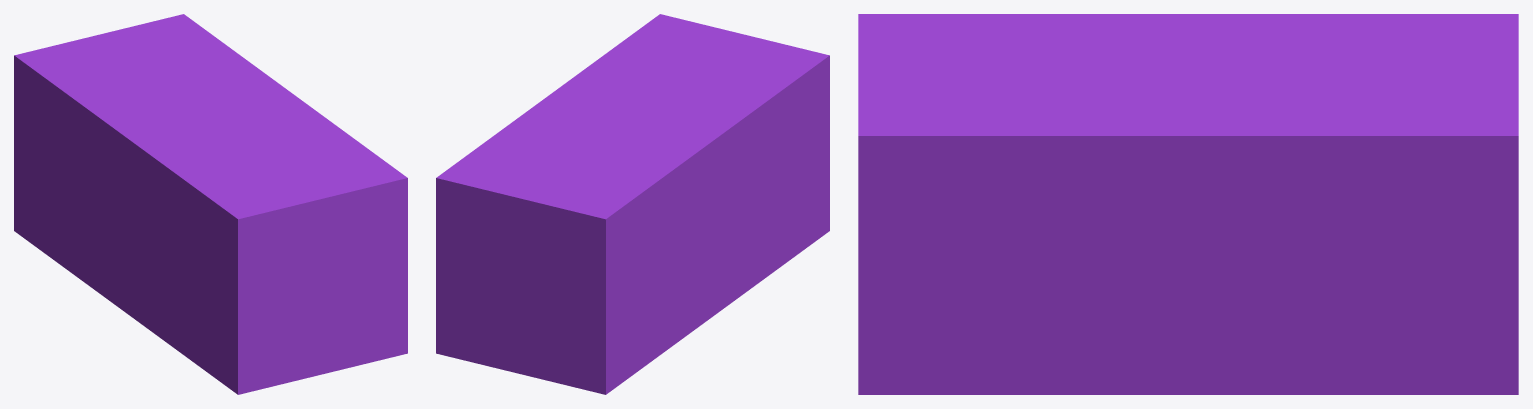
Rendered from ExhibitGlass_1.006_chunks.fbx.
The picture shows the model from 3 angles, left to right: view 1: azimuth 30°, elevation 25°; view 2: azimuth 150°, elevation 25°; view 3: azimuth 270°, elevation 25°; orthographic projection. The views are drawn at different scales.
Parts seen in each view (by area): view 1: ExhibitGlass_1.006_0, ExhibitGlass_1.006_1, ExhibitGlass_1.006_3, ExhibitGlass_1.006_5, ExhibitGlass_1.006_2, ExhibitGlass_1.006_8; view 2: ExhibitGlass_1.006_1, ExhibitGlass_1.006_0, ExhibitGlass_1.006_3, ExhibitGlass_1.006_5, ExhibitGlass_1.006_2; view 3: ExhibitGlass_1.006_1, ExhibitGlass_1.006_0, ExhibitGlass_1.006_7, ExhibitGlass_1.006_8.
Part boxes in pixels (bbox=[...]): ExhibitGlass_1.006_0: bbox=[109, 95, 407, 383]; ExhibitGlass_1.006_1: bbox=[14, 14, 294, 234]; ExhibitGlass_1.006_3: bbox=[19, 190, 169, 344]; ExhibitGlass_1.006_5: bbox=[74, 158, 186, 303]; ExhibitGlass_1.006_2: bbox=[165, 284, 283, 394]; ExhibitGlass_1.006_8: bbox=[307, 272, 407, 377]; ExhibitGlass_1.006_1: bbox=[436, 97, 703, 394]; ExhibitGlass_1.006_0: bbox=[547, 14, 829, 207]; ExhibitGlass_1.006_3: bbox=[611, 246, 761, 390]; ExhibitGlass_1.006_5: bbox=[666, 178, 777, 265]; ExhibitGlass_1.006_2: bbox=[757, 195, 829, 280]; ExhibitGlass_1.006_1: bbox=[1185, 14, 1518, 394]; ExhibitGlass_1.006_0: bbox=[858, 14, 1237, 273]; ExhibitGlass_1.006_7: bbox=[1062, 165, 1397, 394]; ExhibitGlass_1.006_8: bbox=[858, 210, 1069, 394].
Bounding box in the file's own units: 270 × 267 × 618.
